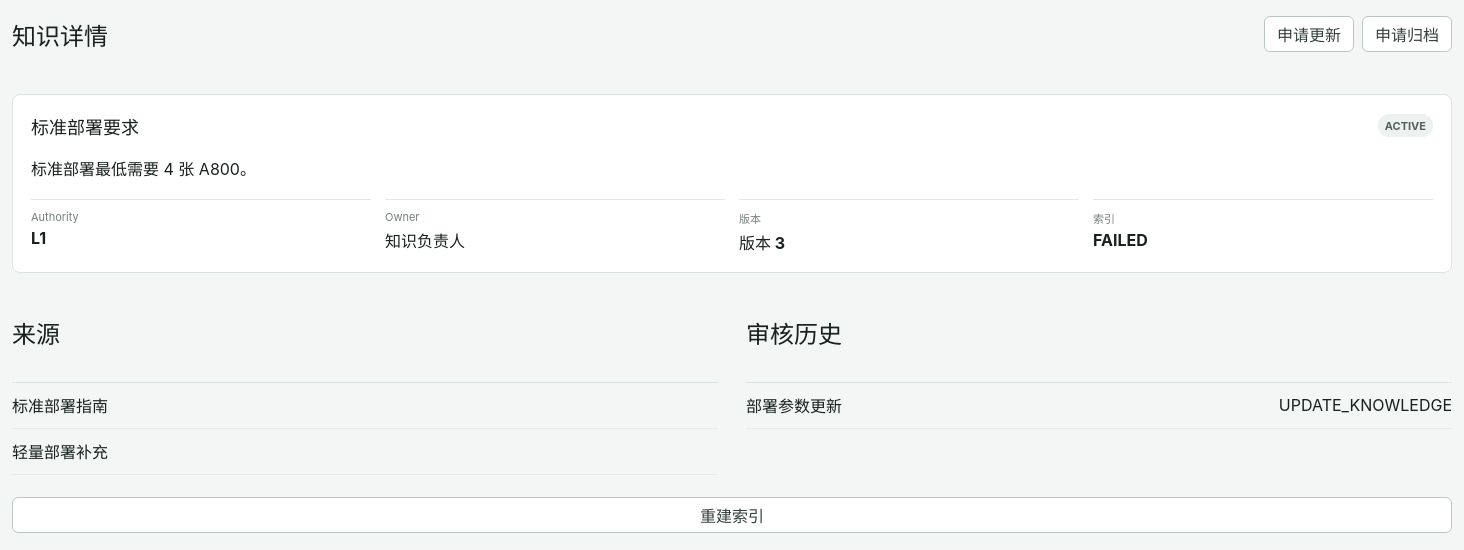
Test: KnowledgeDetailPage › lets an Admin rebuild a failed index
The image size is (1464, 550).
What coordinates should you click on to do the following:
click the button "重建索引"
I would click on:
 (732, 515)
Its box is [12,497,1452,533].
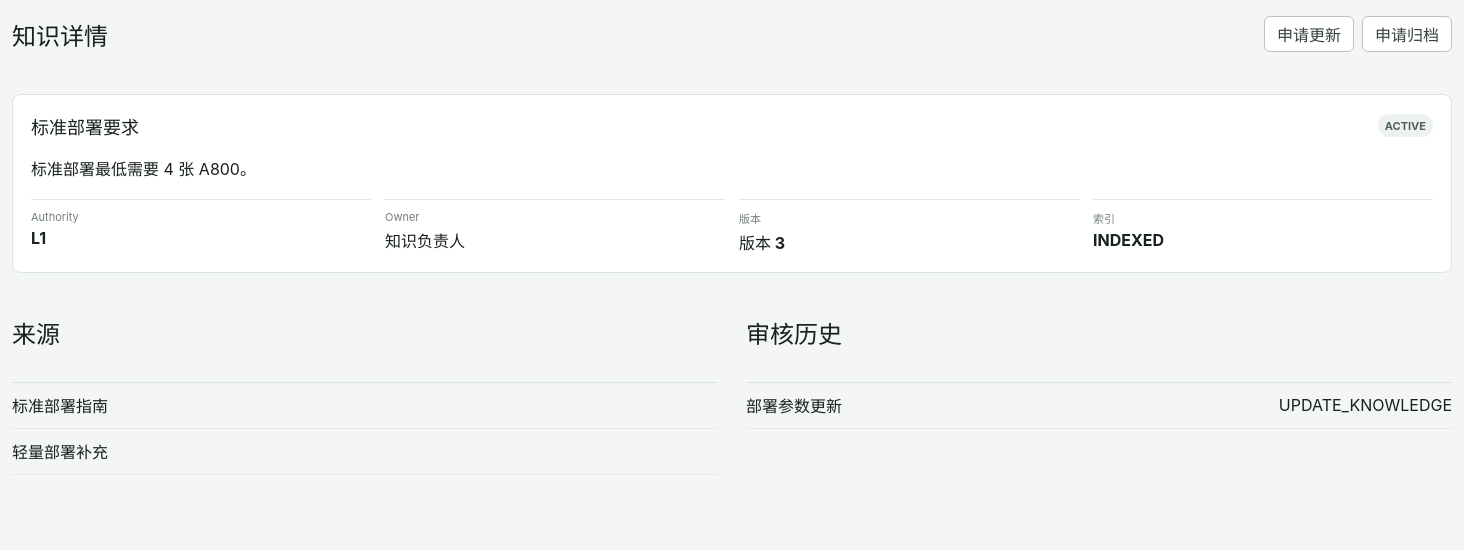
Expected: the text "INDEXED" is shown, [1093,230,1164,250]
